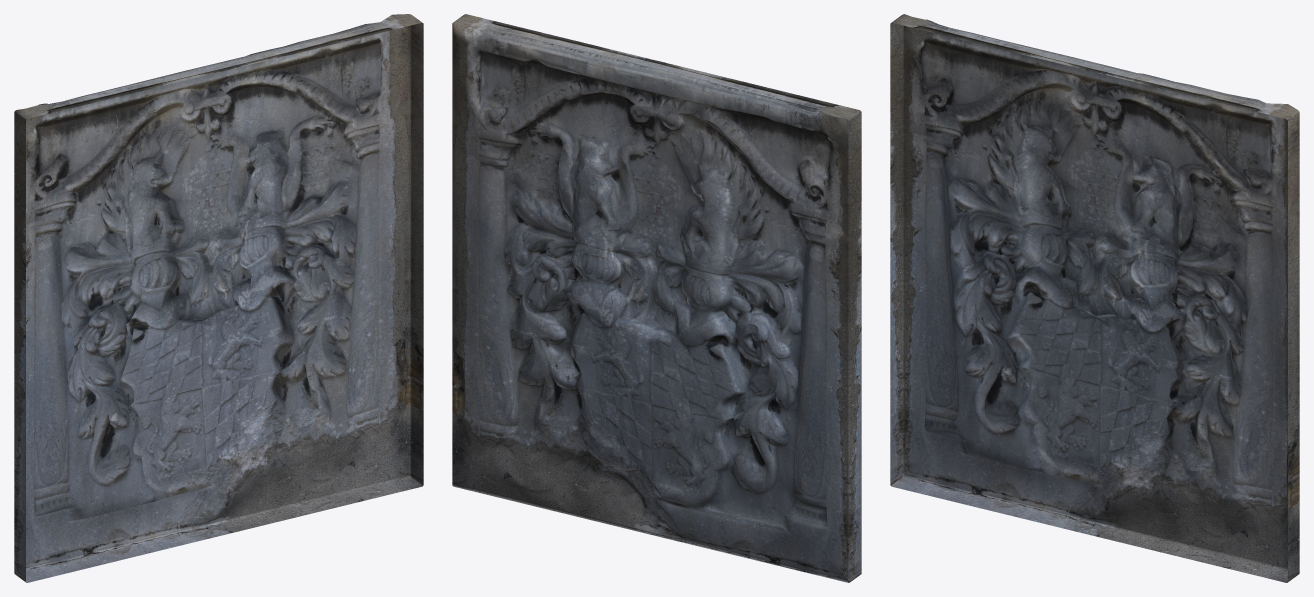
The model's file is SM_Relief_01_02.fbx.
3 views of the same model, side by side, from view 1: azimuth 30°, elevation 25°; view 2: azimuth 150°, elevation 25°; view 3: azimuth 330°, elevation 25° (orthographic).
Visible parts, largest first — view 1: sm_Relief_01_02_LOD0; view 2: sm_Relief_01_02_LOD0; view 3: sm_Relief_01_02_LOD0.
Boxes of the visible parts, <box> form: sm_Relief_01_02_LOD0: <box>14,14,423,582</box>; sm_Relief_01_02_LOD0: <box>452,14,861,582</box>; sm_Relief_01_02_LOD0: <box>890,14,1299,582</box>.
Bounding box in the file's own units: 6 × 70.66 × 78.81.
